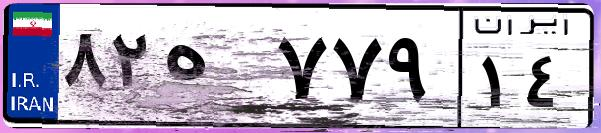1: (475, 38, 525, 113)
2: (110, 28, 158, 98)
4: (525, 38, 570, 115)
7: (270, 28, 330, 110), (330, 28, 385, 110)
8: (57, 26, 110, 100)
9: (385, 28, 445, 110)
ه: (158, 20, 270, 120)
